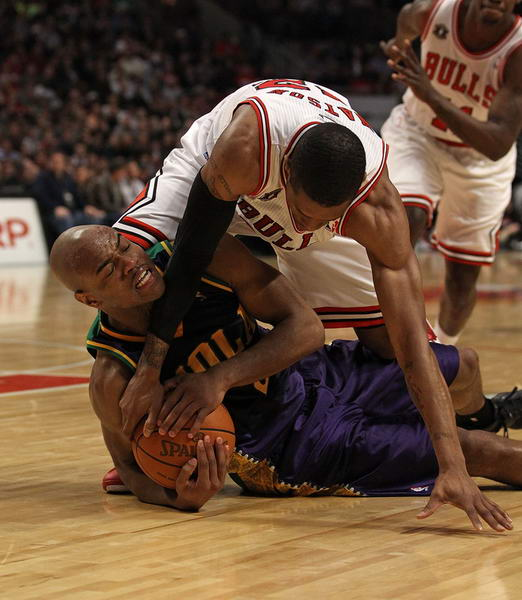fall: (58, 211, 511, 518)
